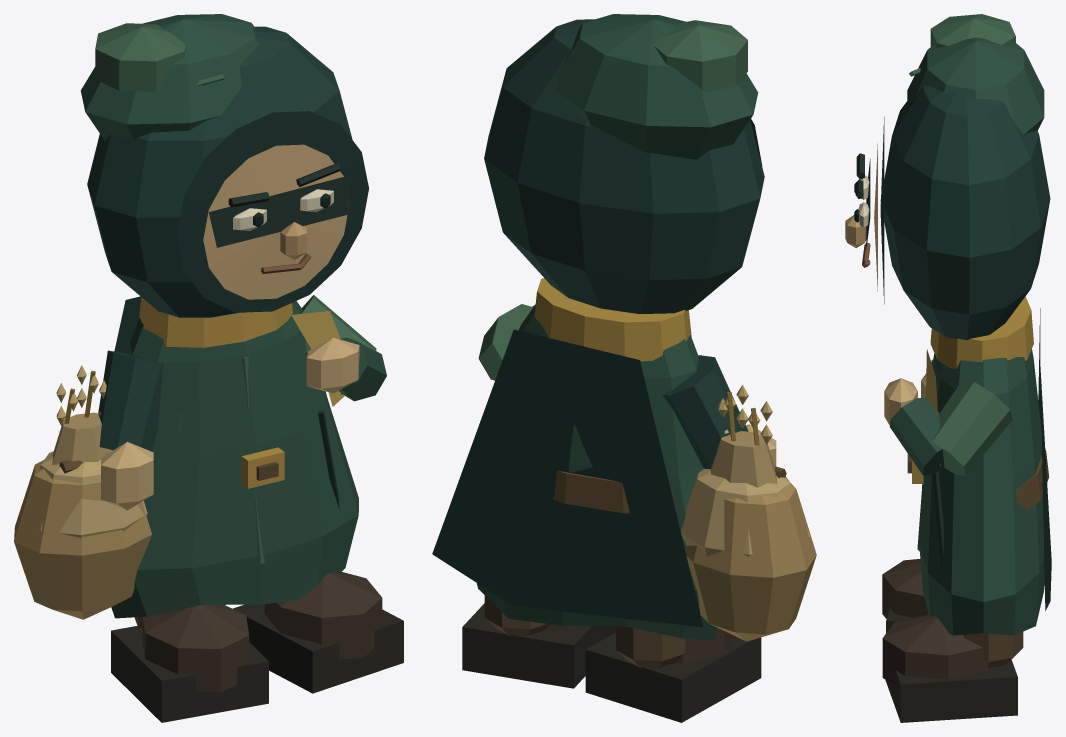
Rendered from hooded.glb.
3 views of the same model, side by side, from view 1: azimuth 30°, elevation 25°; view 2: azimuth 150°, elevation 25°; view 3: azimuth 270°, elevation 25° (orthographic). The views are drawn at different scales.
Visible parts, largest first — view 1: catan_robber_hooded_candidate; view 2: catan_robber_hooded_candidate; view 3: catan_robber_hooded_candidate.
Part boxes in pixels (x1,y1,x2,y2): catan_robber_hooded_candidate: [14, 14, 403, 722]; catan_robber_hooded_candidate: [432, 14, 816, 722]; catan_robber_hooded_candidate: [845, 14, 1051, 722].
Size of the model in its own units: 0.2784 by 0.5185 by 0.1604.
